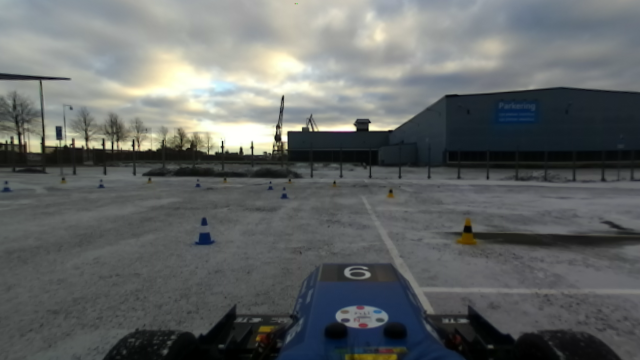blue: (192, 214, 218, 249)
yellow: (454, 216, 480, 249)
